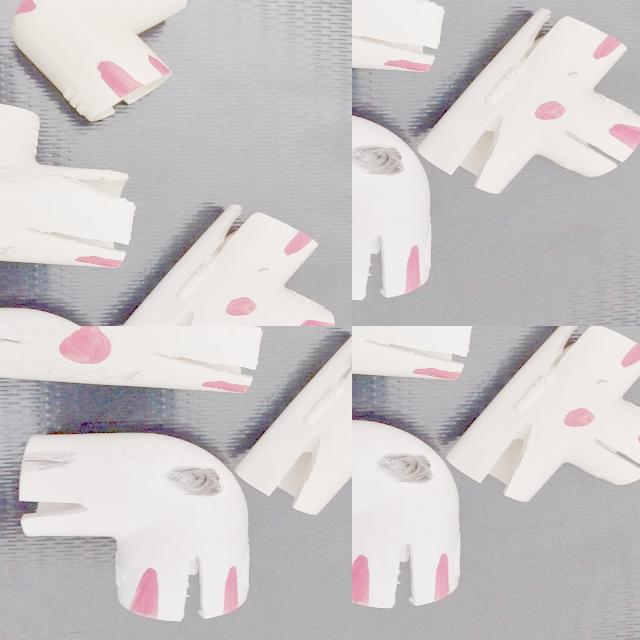Defective: (263, 443, 315, 498), (474, 430, 526, 485), (543, 327, 583, 382), (58, 326, 111, 366), (161, 354, 247, 375), (372, 341, 458, 362), (164, 468, 220, 498), (375, 455, 431, 485), (124, 570, 157, 620), (594, 440, 640, 474), (220, 567, 245, 615), (431, 554, 456, 602), (185, 570, 202, 621), (396, 557, 413, 608), (352, 557, 368, 607), (332, 357, 352, 395), (563, 409, 596, 432), (33, 503, 83, 517), (202, 382, 248, 396), (413, 369, 459, 383), (28, 457, 70, 470), (622, 346, 640, 370), (0, 335, 23, 345)
L Joint: (17, 434, 249, 624), (352, 421, 460, 611)
T Joint: (446, 326, 640, 505), (235, 334, 352, 518)
